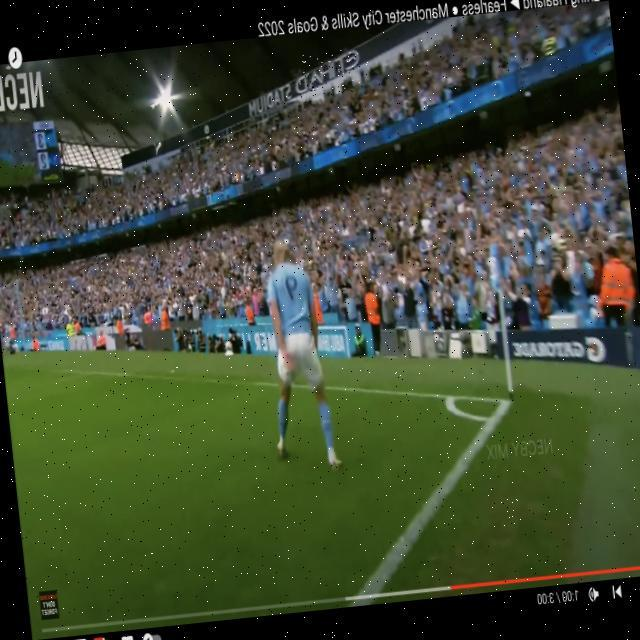Etihad Airways: (292, 48, 362, 97)
